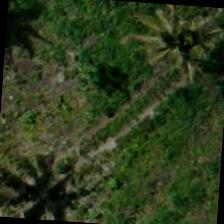Kelapa_Sawit: (126, 1, 220, 83)
